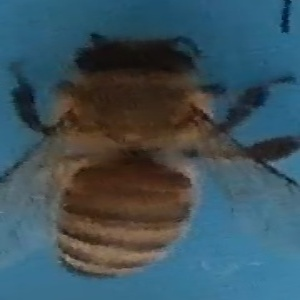bee: (8, 29, 300, 287)
